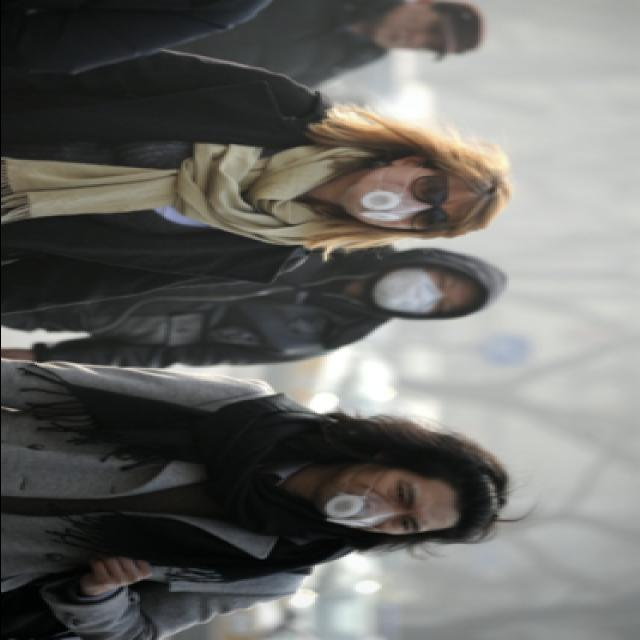with_mask: (322, 472, 434, 538), (348, 166, 458, 228), (369, 270, 463, 316)
without_mask: (374, 12, 450, 54)
